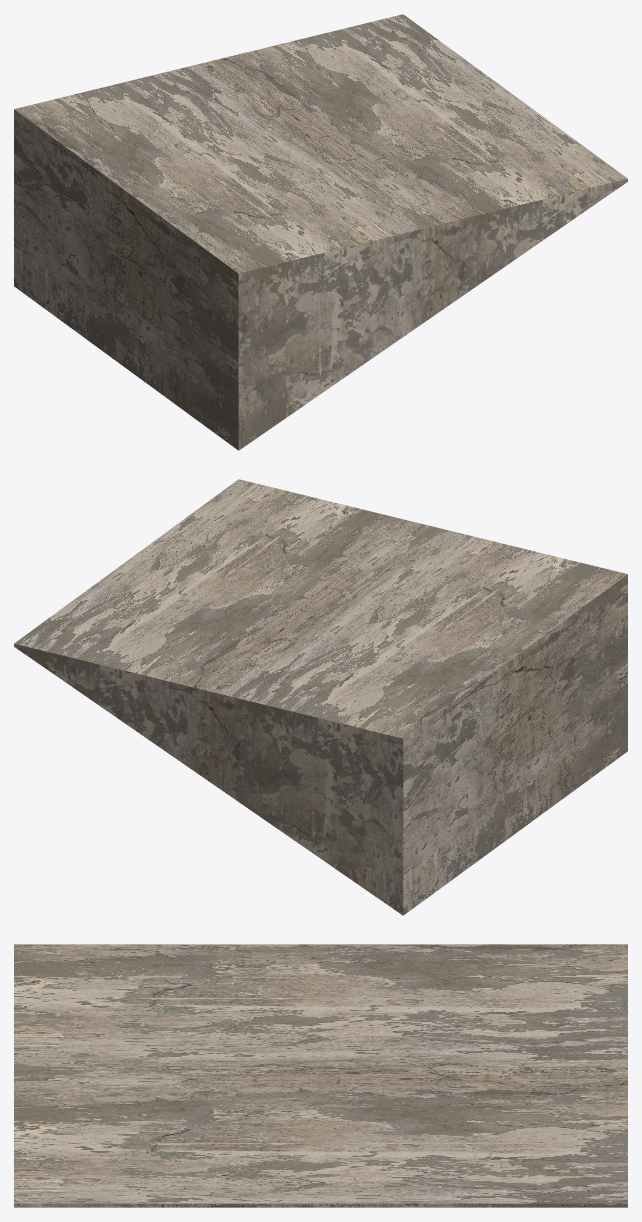
File: Box_Stair.fbx
The picture shows the model from 3 angles, top to bottom: view 1: azimuth 30°, elevation 25°; view 2: azimuth 150°, elevation 25°; view 3: azimuth 270°, elevation 25°; orthographic projection. The views are drawn at different scales.
Visible parts, largest first — view 1: Box_39D4962F_LOD0; view 2: Box_39D4962F_LOD0; view 3: Box_39D4962F_LOD0.
Part boxes in pixels (x1,y1,x2,y2): Box_39D4962F_LOD0: (14,14,627,450); Box_39D4962F_LOD0: (14,479,627,915); Box_39D4962F_LOD0: (14,944,627,1207).
Size of the model in its own units: 100 by 43.49 by 100.
